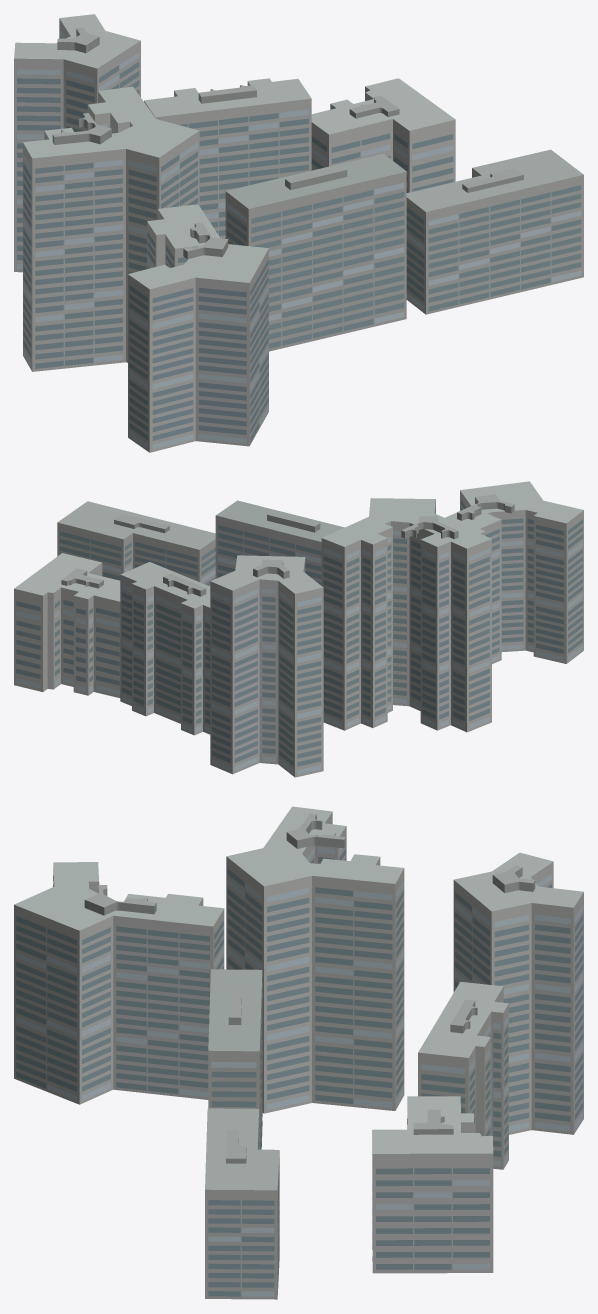
Rendered from apt-a10025867.glb.
3 views of the same model, one above another, from view 1: azimuth 30°, elevation 25°; view 2: azimuth 150°, elevation 25°; view 3: azimuth 270°, elevation 25° (orthographic). The views are drawn at different scales.
Visible parts, largest first — view 1: apt-a10025867; view 2: apt-a10025867; view 3: apt-a10025867.
Part boxes in pixels (x1,y1,x2,y2): apt-a10025867: (14, 14, 583, 452); apt-a10025867: (14, 481, 583, 777); apt-a10025867: (14, 806, 583, 1299).
Size of the model in its own units: 160 by 66 by 145.
